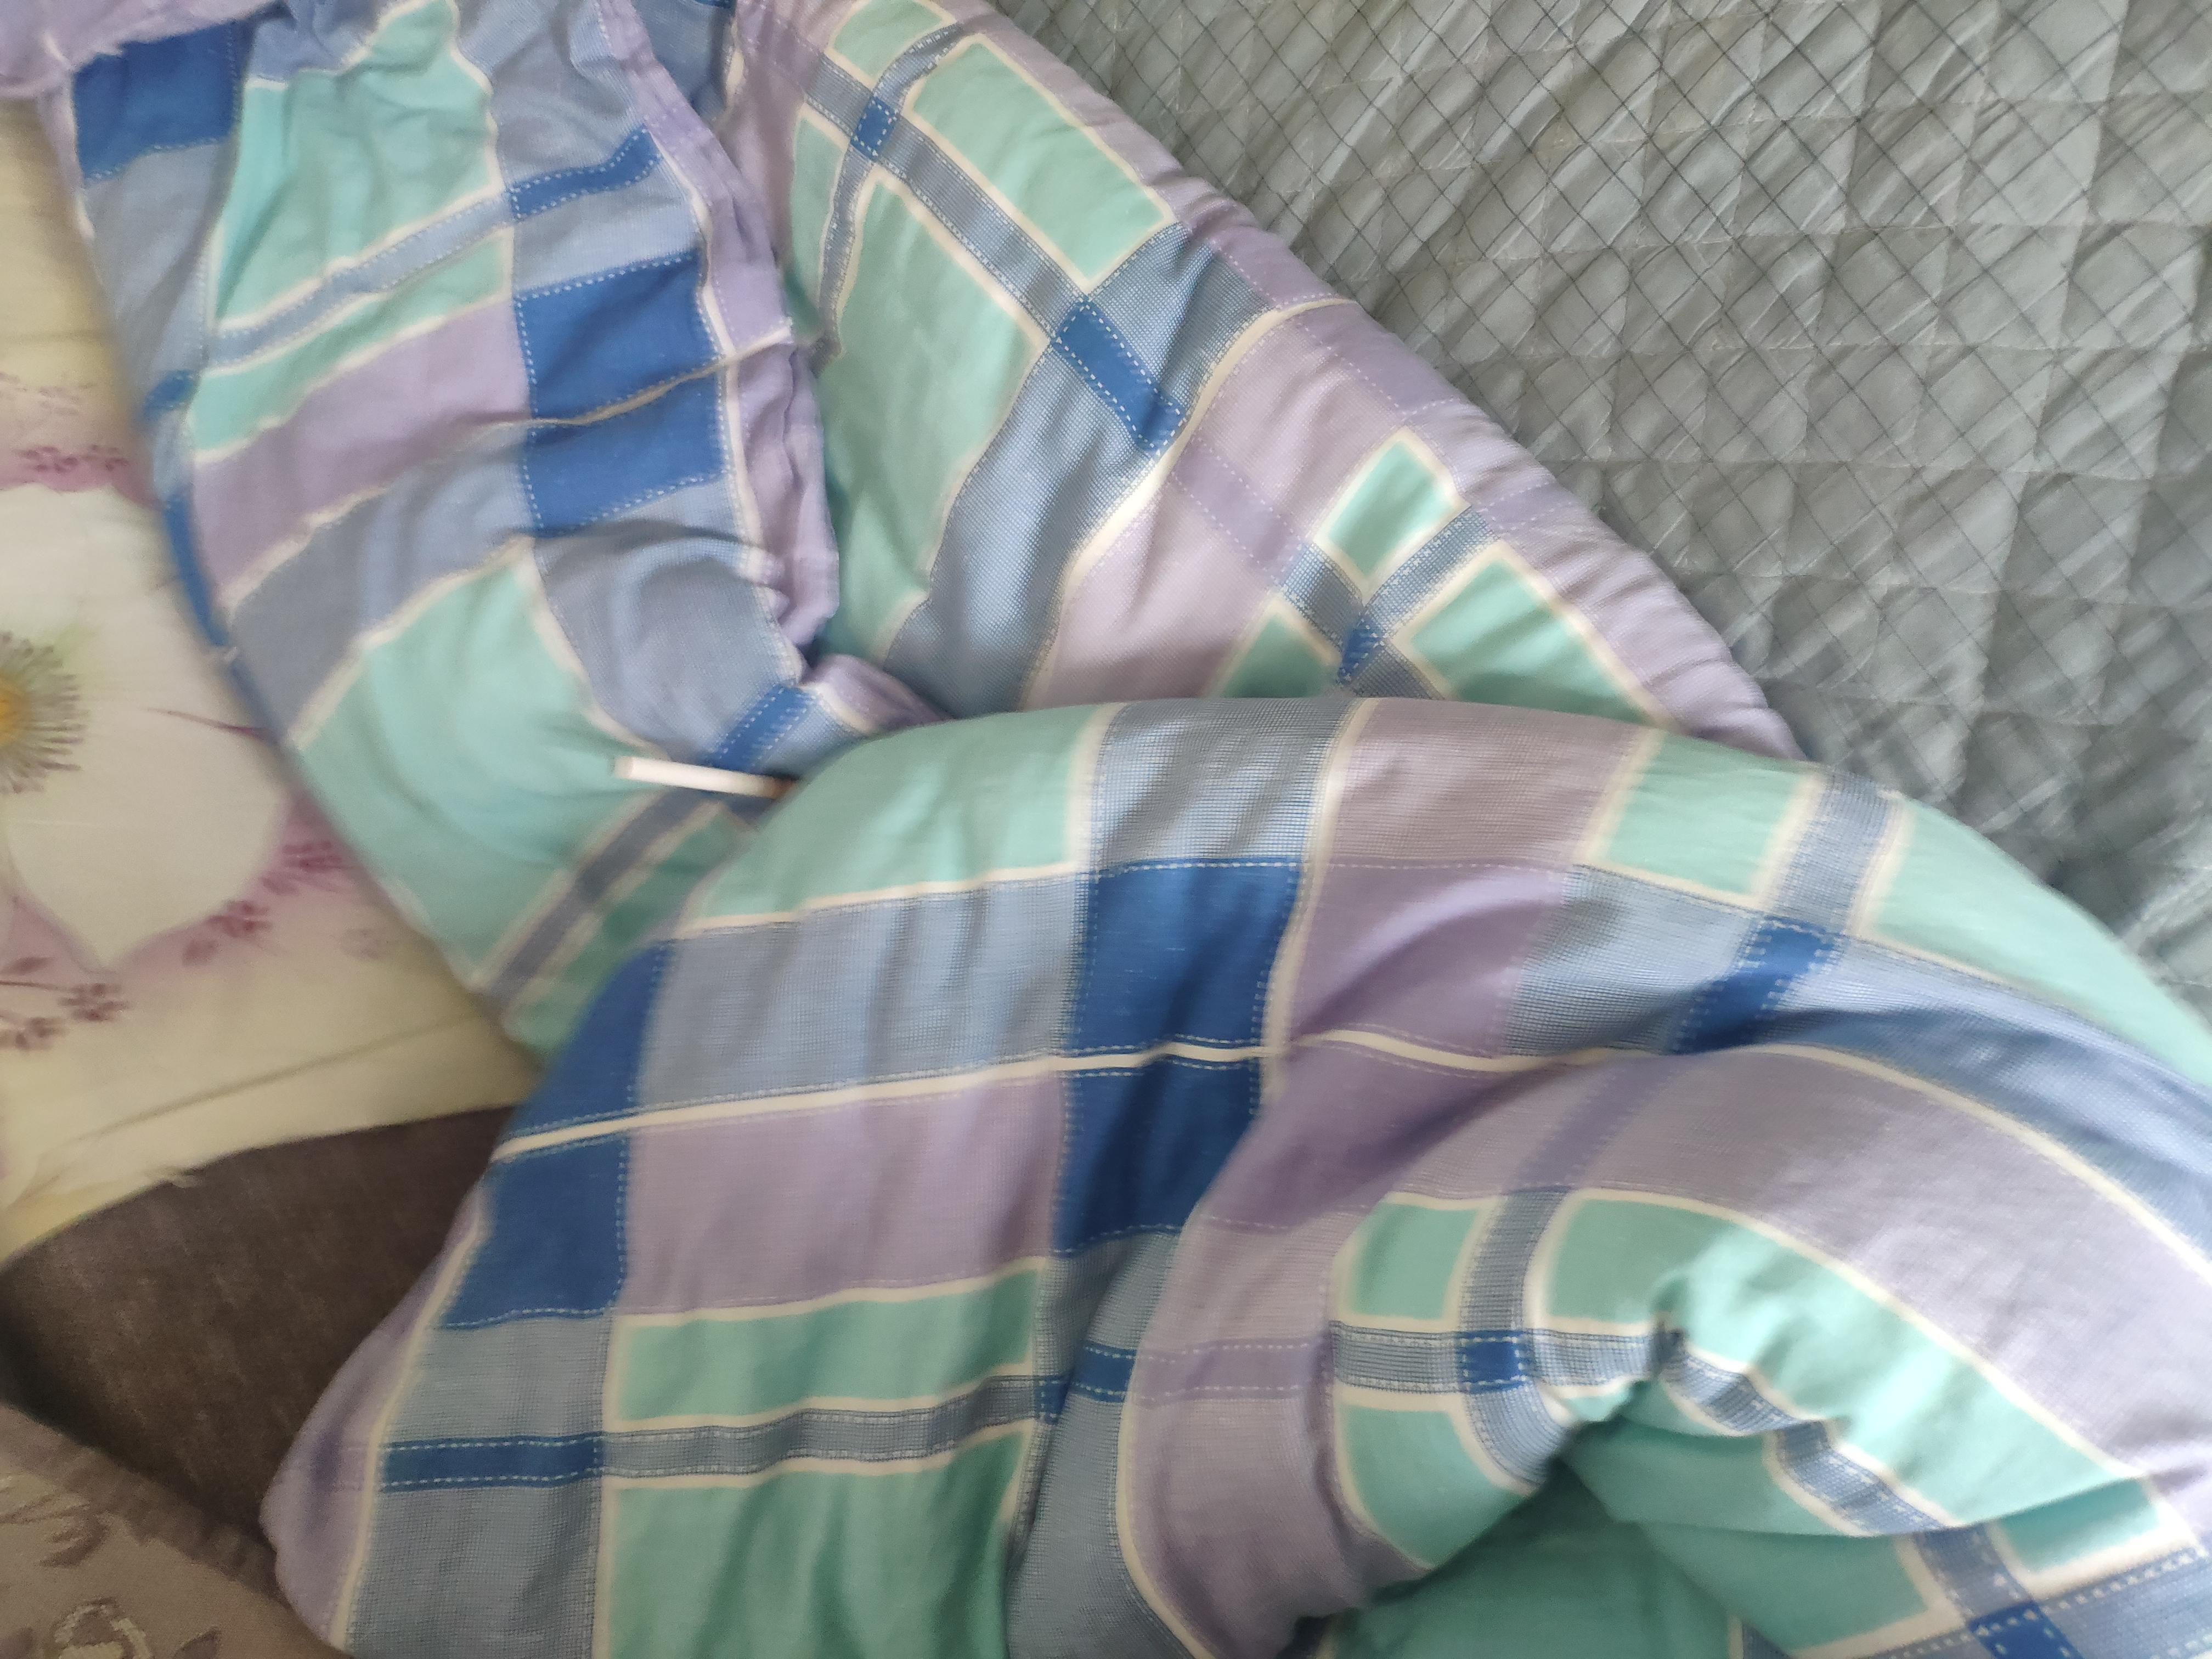smoke: (1136, 460, 1209, 608)
